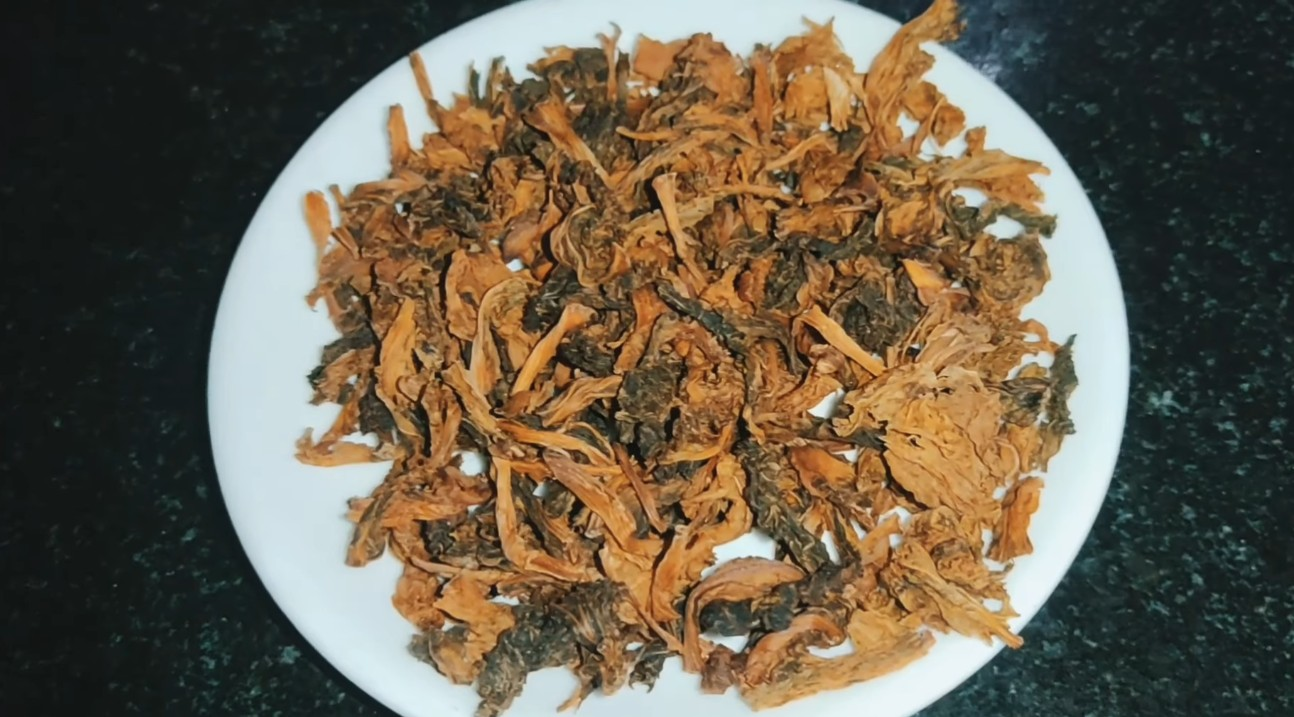gundruk: (360, 93, 987, 675)
